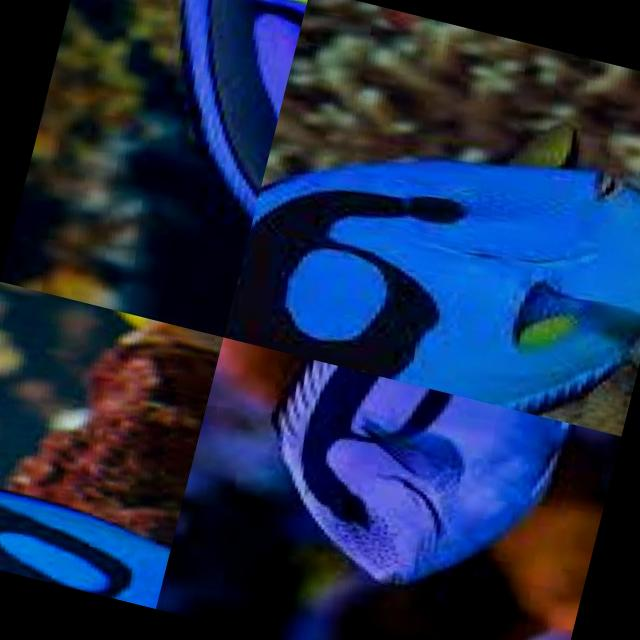BlueTang: (223, 57, 640, 435), (238, 348, 576, 618), (131, 0, 310, 230), (0, 469, 176, 608)
